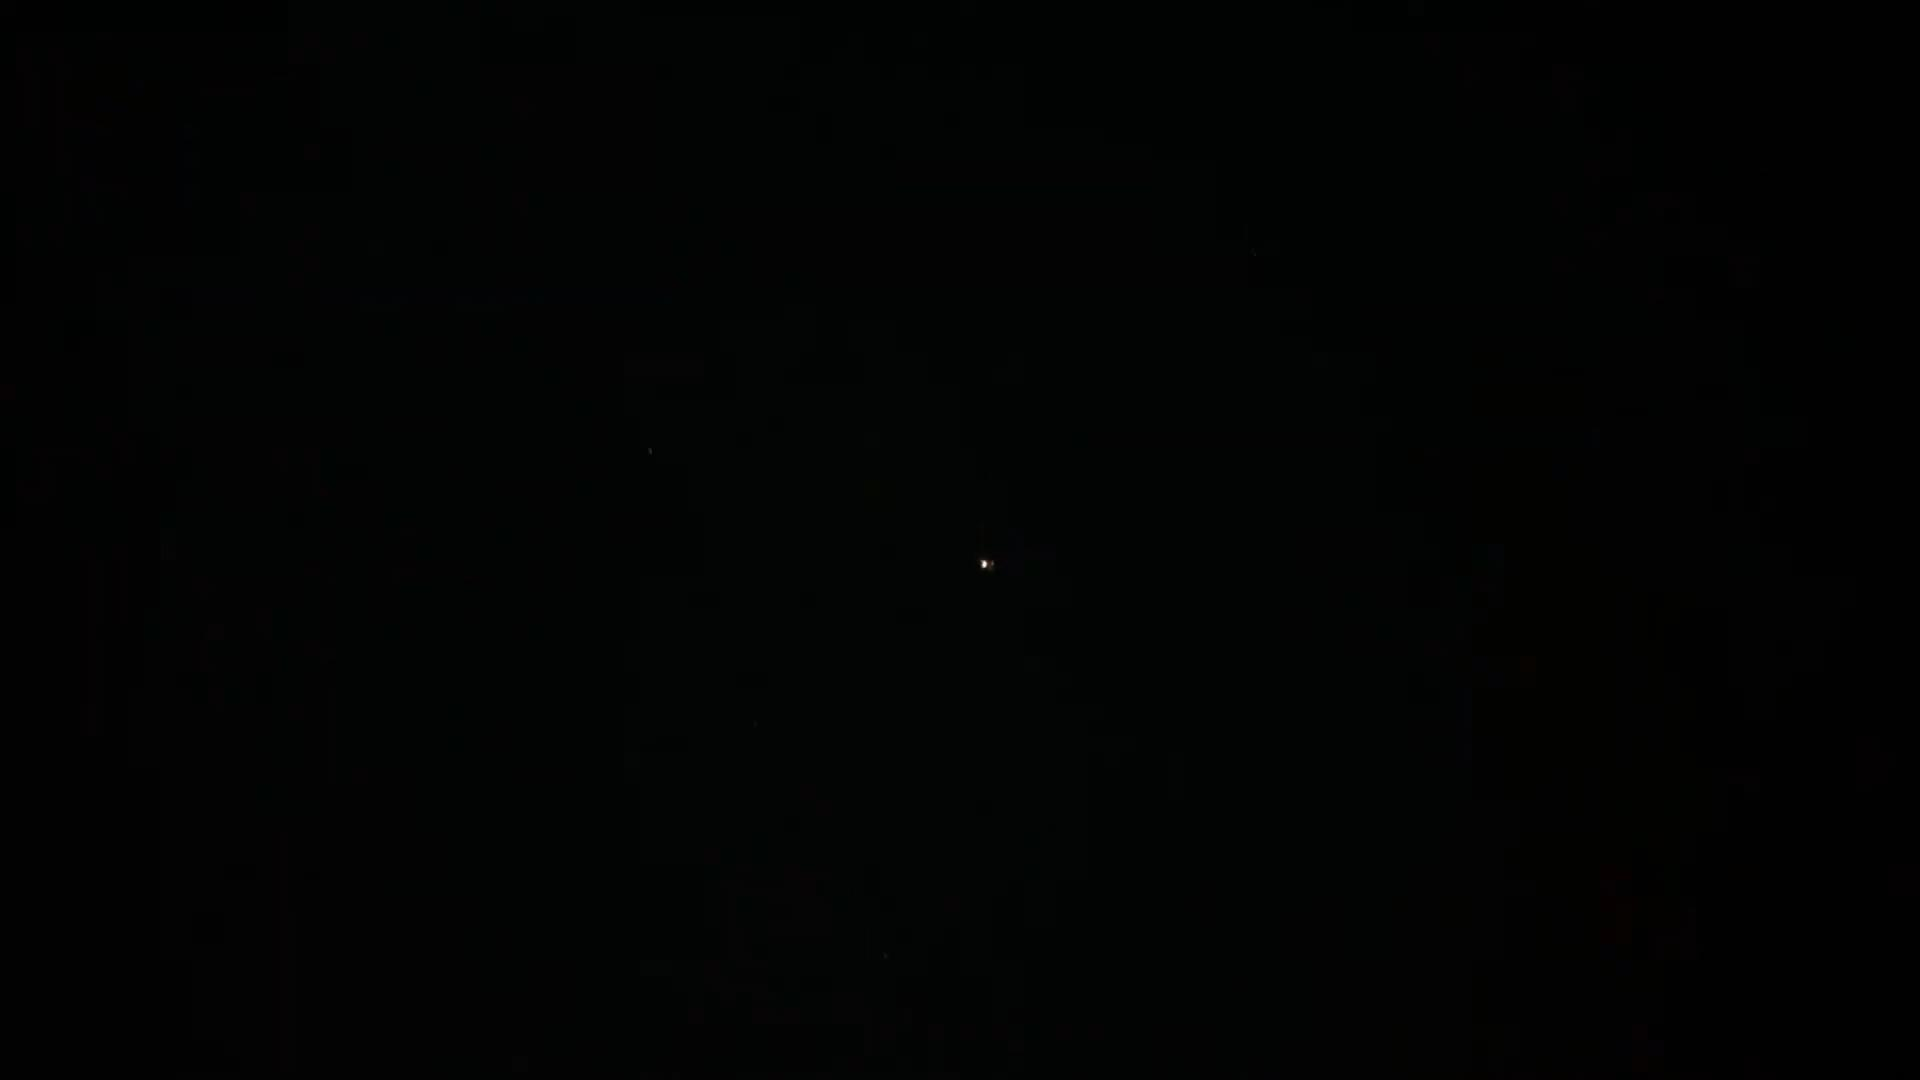Plane: (965, 546, 1009, 580)
